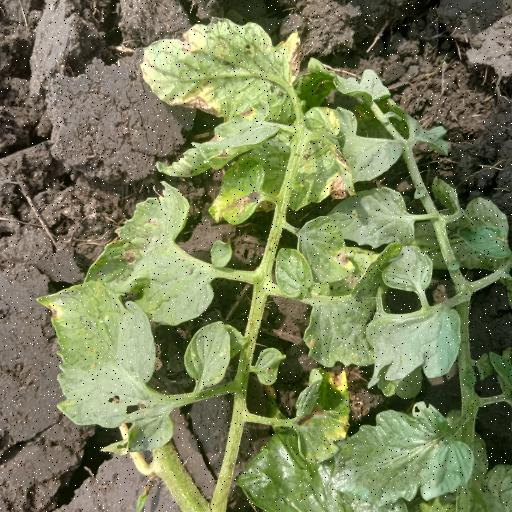Tomato_Mosaic: (138, 20, 318, 137)
